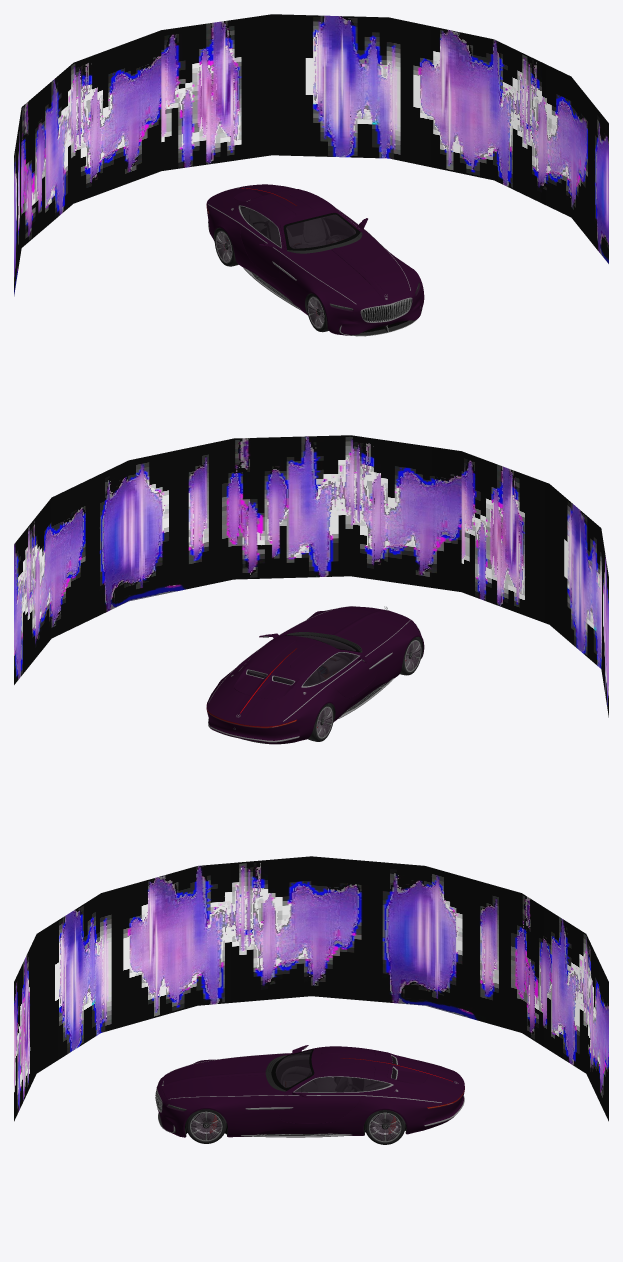
Rendered from maercedes.glb.
3 renders of one model, top to bottom at view 1: azimuth 30°, elevation 25°; view 2: azimuth 150°, elevation 25°; view 3: azimuth 270°, elevation 25°, orthographic.
Visible parts, largest first — view 1: maybachv6_frame_0, maybachv6_body_01_1, maybachv6_body_02_5, maybachv6_body_03_11, maybachv6_glass_01_4, maybachv6_chrome_01_2, maybachv6_details_02_10, maybachv6_rim_20, maybachv6_rim_02_19, maybachv6_glass_02_6; view 2: maybachv6_frame_0, maybachv6_body_01_1, maybachv6_body_02_5, maybachv6_body_03_11, maybachv6_chrome_01_2, maybachv6_glass_01_4, maybachv6_rim_20, maybachv6_details_02_10, maybachv6_rim_02_19, maybachv6_glass_02_6; view 3: maybachv6_frame_0, maybachv6_body_01_1, maybachv6_body_02_5, maybachv6_body_03_11, maybachv6_glass_01_4, maybachv6_rim_20, maybachv6_tire_21, maybachv6_rim_02_19, maybachv6_chrome_01_2, maybachv6_glass_02_6, maybachv6_details_02_10.
Boxes of the visible parts, left/top/right/bottom form: maybachv6_frame_0: left=14, top=14, right=608, bottom=296; maybachv6_body_01_1: left=206, top=184, right=424, bottom=335; maybachv6_body_02_5: left=234, top=186, right=409, bottom=304; maybachv6_body_03_11: left=240, top=192, right=367, bottom=278; maybachv6_glass_01_4: left=206, top=204, right=419, bottom=310; maybachv6_chrome_01_2: left=208, top=186, right=421, bottom=336; maybachv6_details_02_10: left=213, top=228, right=421, bottom=335; maybachv6_rim_20: left=215, top=231, right=324, bottom=328; maybachv6_rim_02_19: left=216, top=232, right=323, bottom=327; maybachv6_glass_02_6: left=249, top=209, right=280, bottom=247; maybachv6_frame_0: left=14, top=435, right=608, bottom=717; maybachv6_body_01_1: left=206, top=606, right=424, bottom=744; maybachv6_body_02_5: left=234, top=606, right=409, bottom=699; maybachv6_body_03_11: left=243, top=633, right=376, bottom=698; maybachv6_chrome_01_2: left=208, top=606, right=410, bottom=742; maybachv6_glass_01_4: left=206, top=627, right=419, bottom=727; maybachv6_rim_20: left=316, top=640, right=421, bottom=738; maybachv6_details_02_10: left=208, top=632, right=423, bottom=744; maybachv6_rim_02_19: left=317, top=641, right=420, bottom=737; maybachv6_glass_02_6: left=311, top=652, right=358, bottom=680; maybachv6_frame_0: left=14, top=856, right=608, bottom=1121; maybachv6_body_01_1: left=157, top=1048, right=464, bottom=1137; maybachv6_body_02_5: left=162, top=1052, right=427, bottom=1098; maybachv6_body_03_11: left=278, top=1045, right=375, bottom=1123; maybachv6_glass_01_4: left=167, top=1049, right=464, bottom=1111; maybachv6_rim_20: left=190, top=1111, right=401, bottom=1142; maybachv6_tire_21: left=185, top=1109, right=405, bottom=1144; maybachv6_rim_02_19: left=191, top=1113, right=400, bottom=1140; maybachv6_chrome_01_2: left=155, top=1053, right=464, bottom=1137; maybachv6_glass_02_6: left=294, top=1077, right=372, bottom=1092; maybachv6_details_02_10: left=155, top=1055, right=464, bottom=1136.
Bounding box in the file's own units: 10.54 × 2.73 × 10.54.
Materials: 9 (6 with a texture image).
